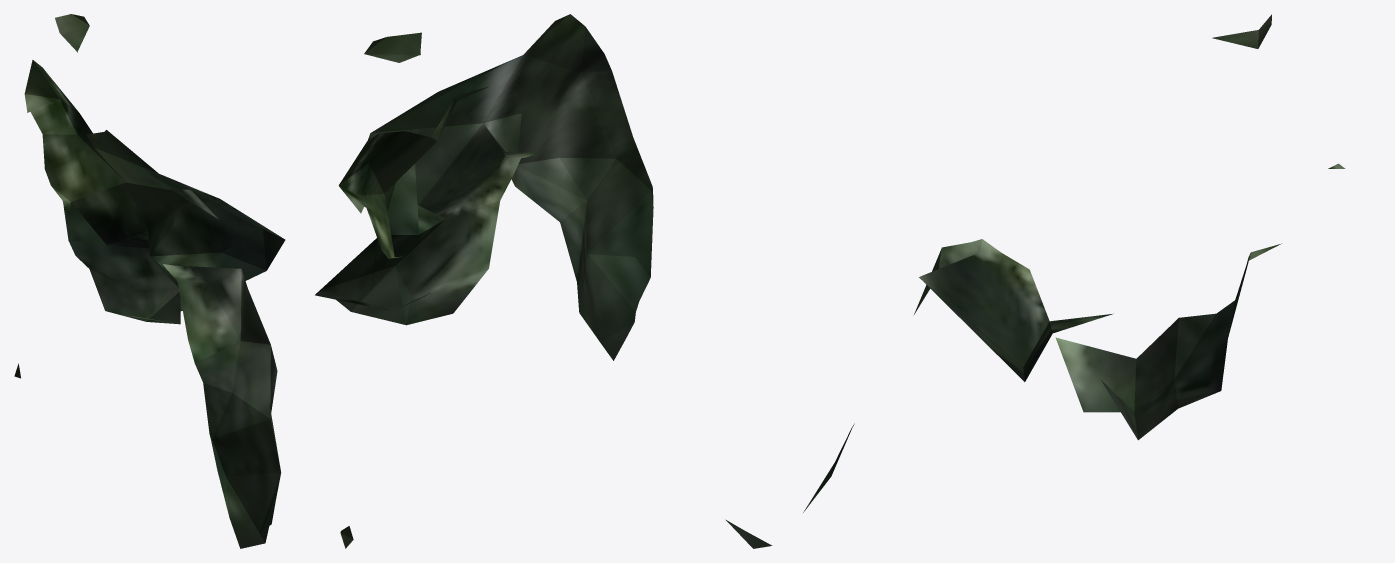
3 renders of one model, left to right at view 1: azimuth 30°, elevation 25°; view 2: azimuth 150°, elevation 25°; view 3: azimuth 270°, elevation 25°, orthographic. The views are drawn at different scales.
Bounding box in the file's own units: 2.34 × 7.06 × 8.4.
1 material, 1 textured.
